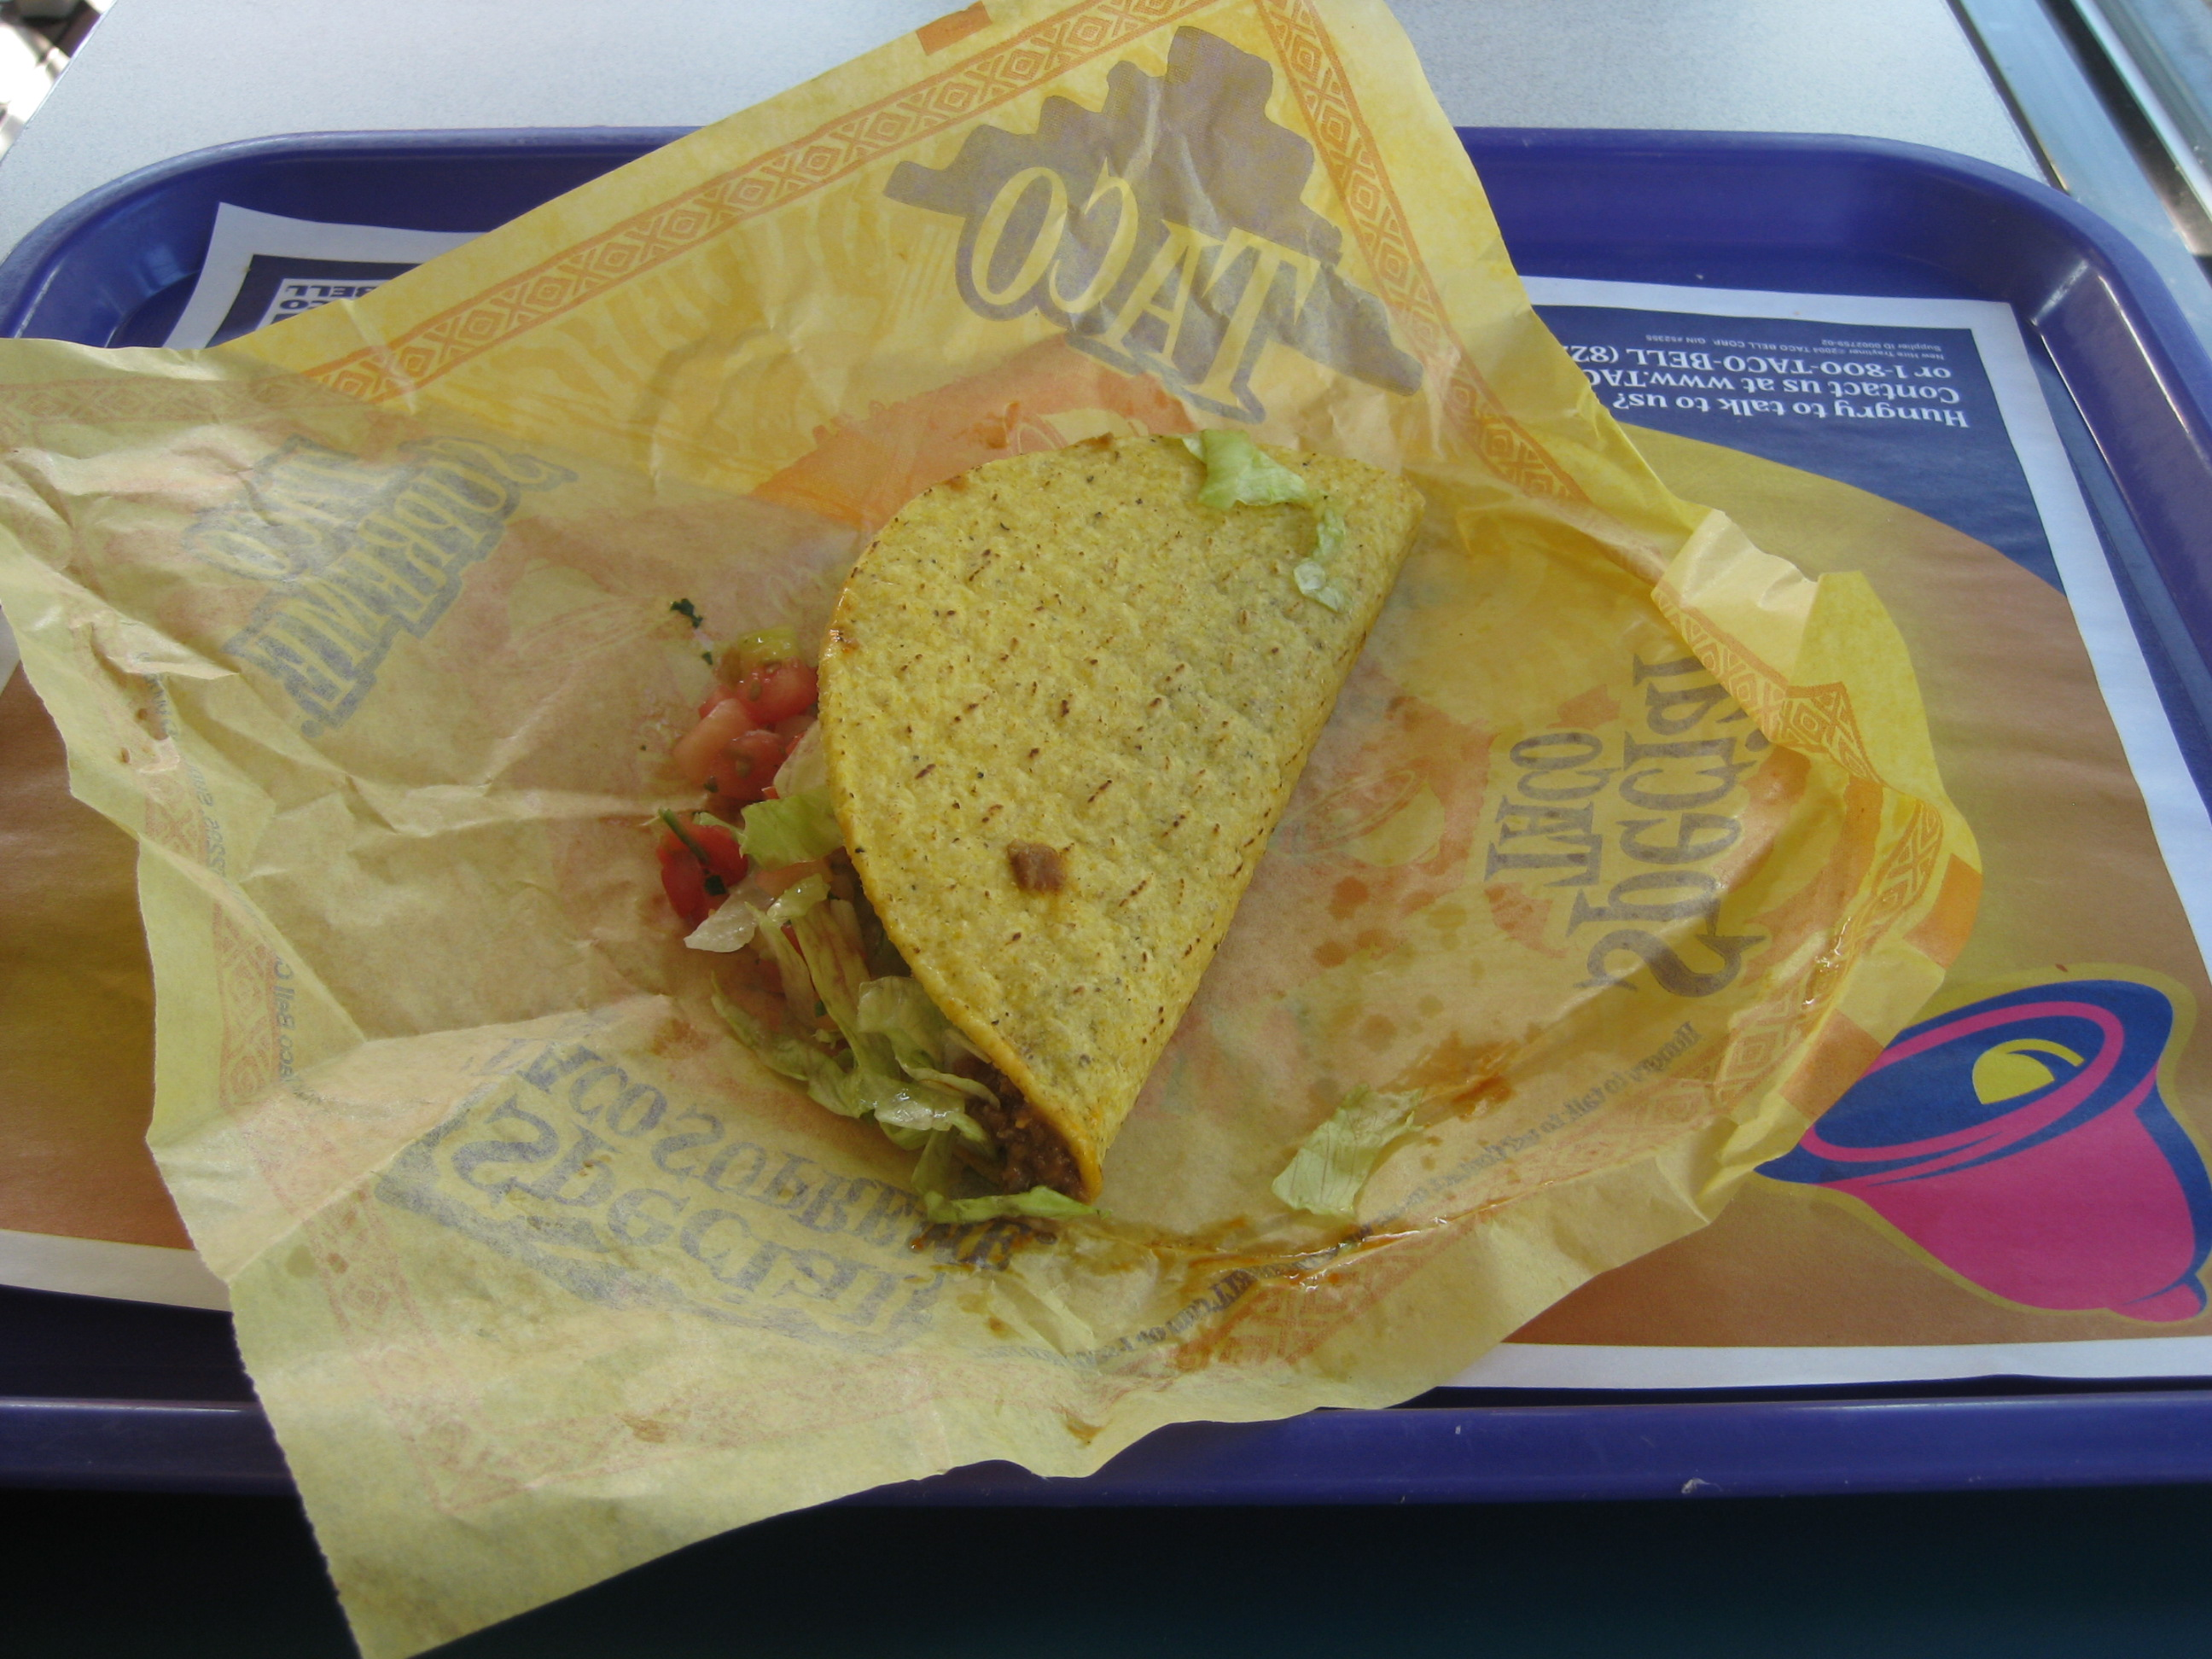taco: (685, 419, 1389, 1241)
